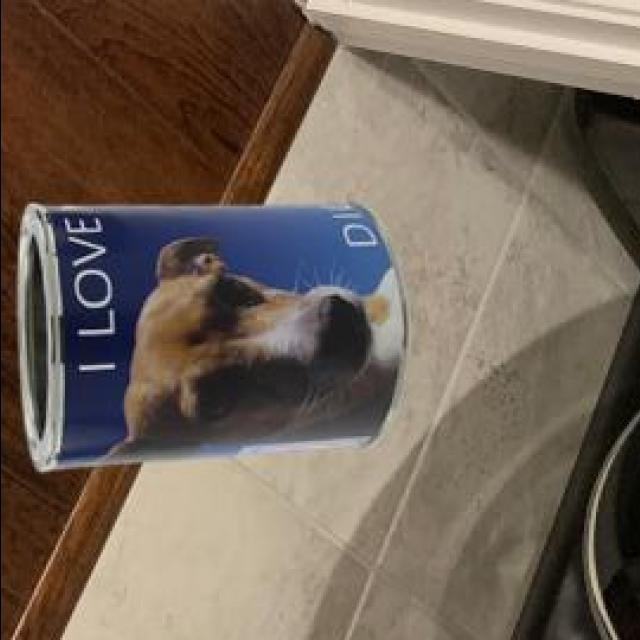logam: (20, 200, 414, 468)
